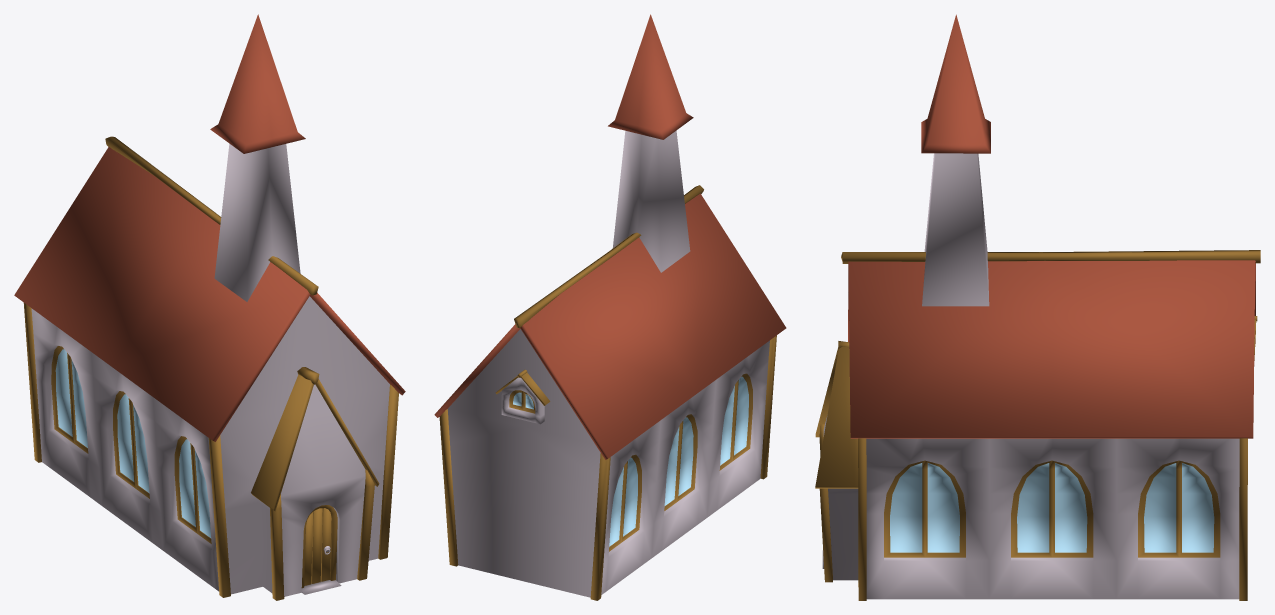
Rendered from church 1.fbx.
The picture shows the model from 3 angles, left to right: view 1: azimuth 30°, elevation 25°; view 2: azimuth 150°, elevation 25°; view 3: azimuth 270°, elevation 25°; orthographic projection. The views are drawn at different scales.
Visible parts, largest first — view 1: church; view 2: church; view 3: church.
Part boxes in pixels (x1,y1,x2,y2): church: [14, 14, 405, 600]; church: [434, 14, 786, 600]; church: [815, 14, 1260, 600].
Bounding box in the file's own units: 500 × 1295 × 958.
